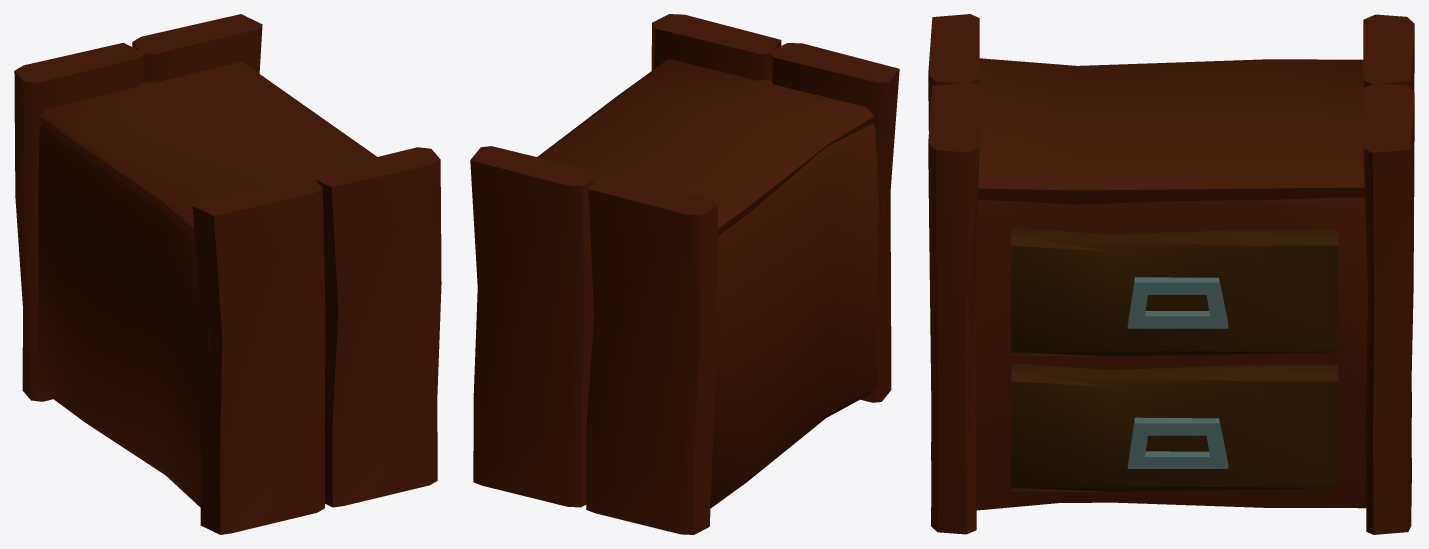
Rendered from commode.obj.
3 renders of one model, left to right at view 1: azimuth 30°, elevation 25°; view 2: azimuth 150°, elevation 25°; view 3: azimuth 270°, elevation 25°, orthographic. The views are drawn at different scales.
Visible parts, largest first — view 1: commode; view 2: commode; view 3: commode.
Part boxes in pixels (x1,y1,x2,y2): commode: (14, 14, 441, 534); commode: (470, 14, 899, 534); commode: (928, 14, 1414, 534).
Size of the model in its own units: 0.134 by 0.16 by 0.1839.
